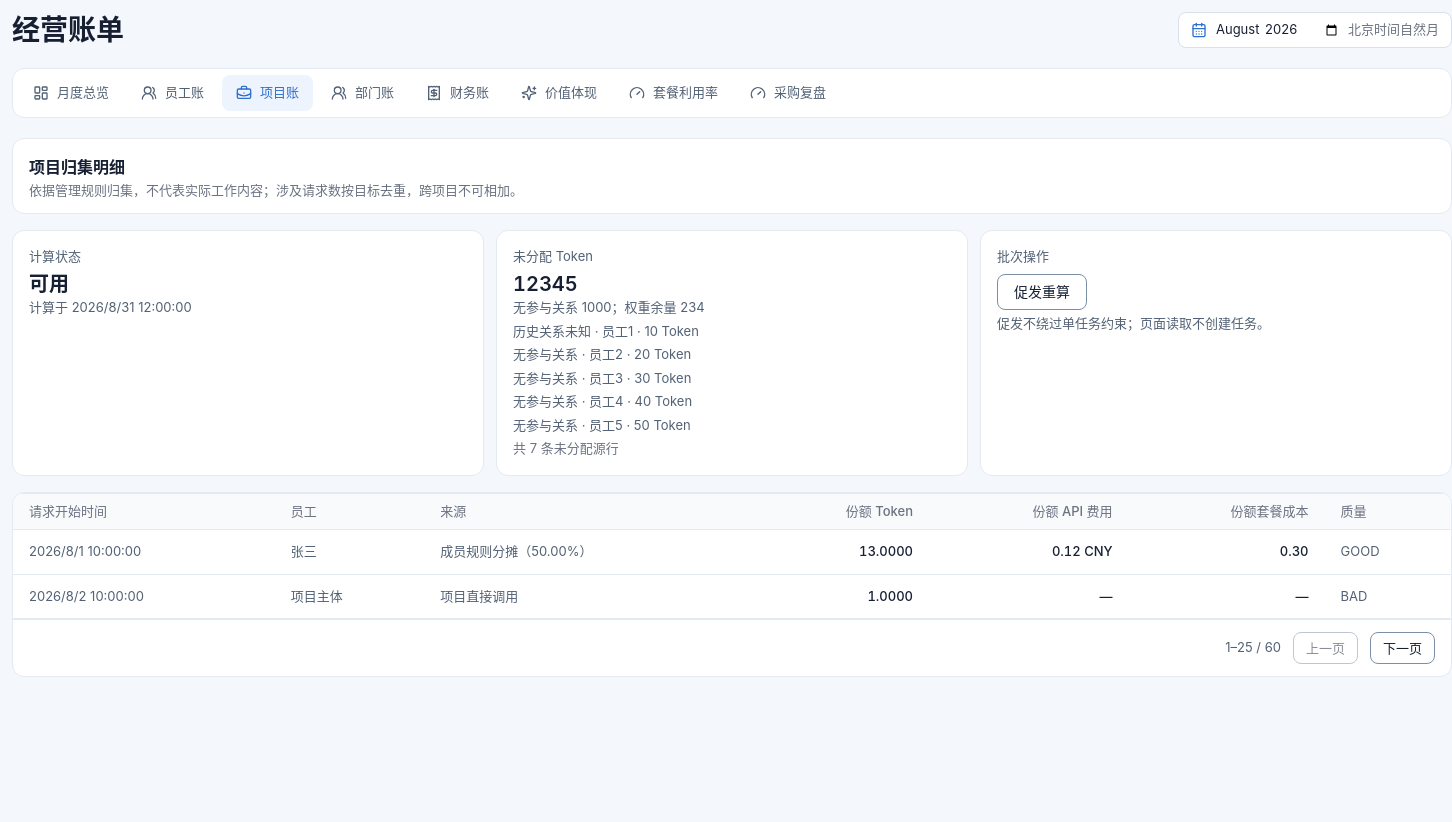
Test case: 项目账归集详情页 › 分页按钮推进 offset 并以新 offset 触发读取
Expected: the text "1–25 / 60" is shown, top-left (1225, 638), bottom-right (1281, 658)
Expected: the button "上一页" is disabled, top-left (1293, 632), bottom-right (1358, 664)
Click the button "下一页" at x=1402, y=648, box top-left (1370, 632), bottom-right (1435, 664)
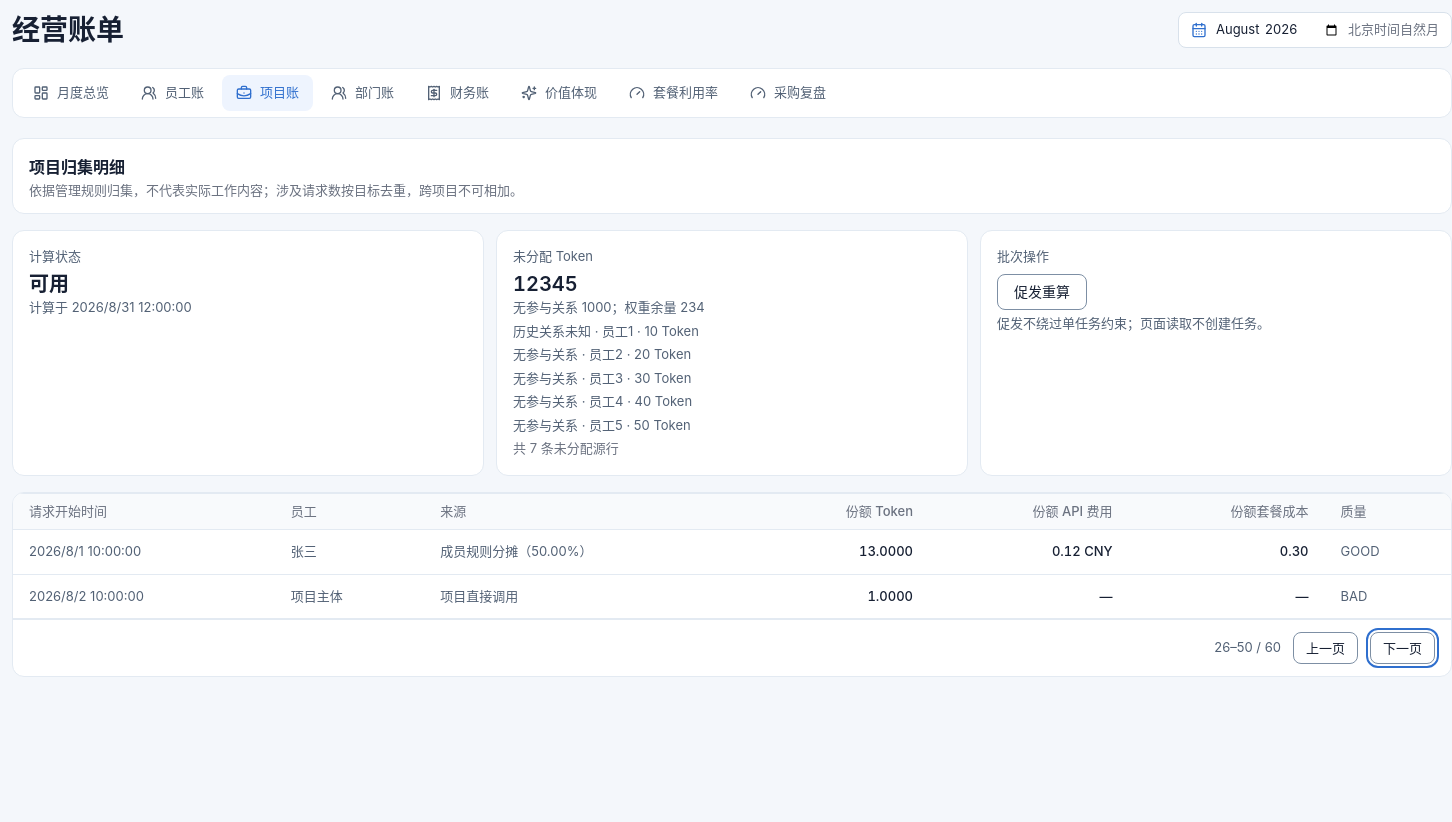
Result: the text "26–50 / 60" is shown at top-left (1214, 638), bottom-right (1281, 658)
Click the button "上一页" at x=1326, y=648, box top-left (1293, 632), bottom-right (1358, 664)
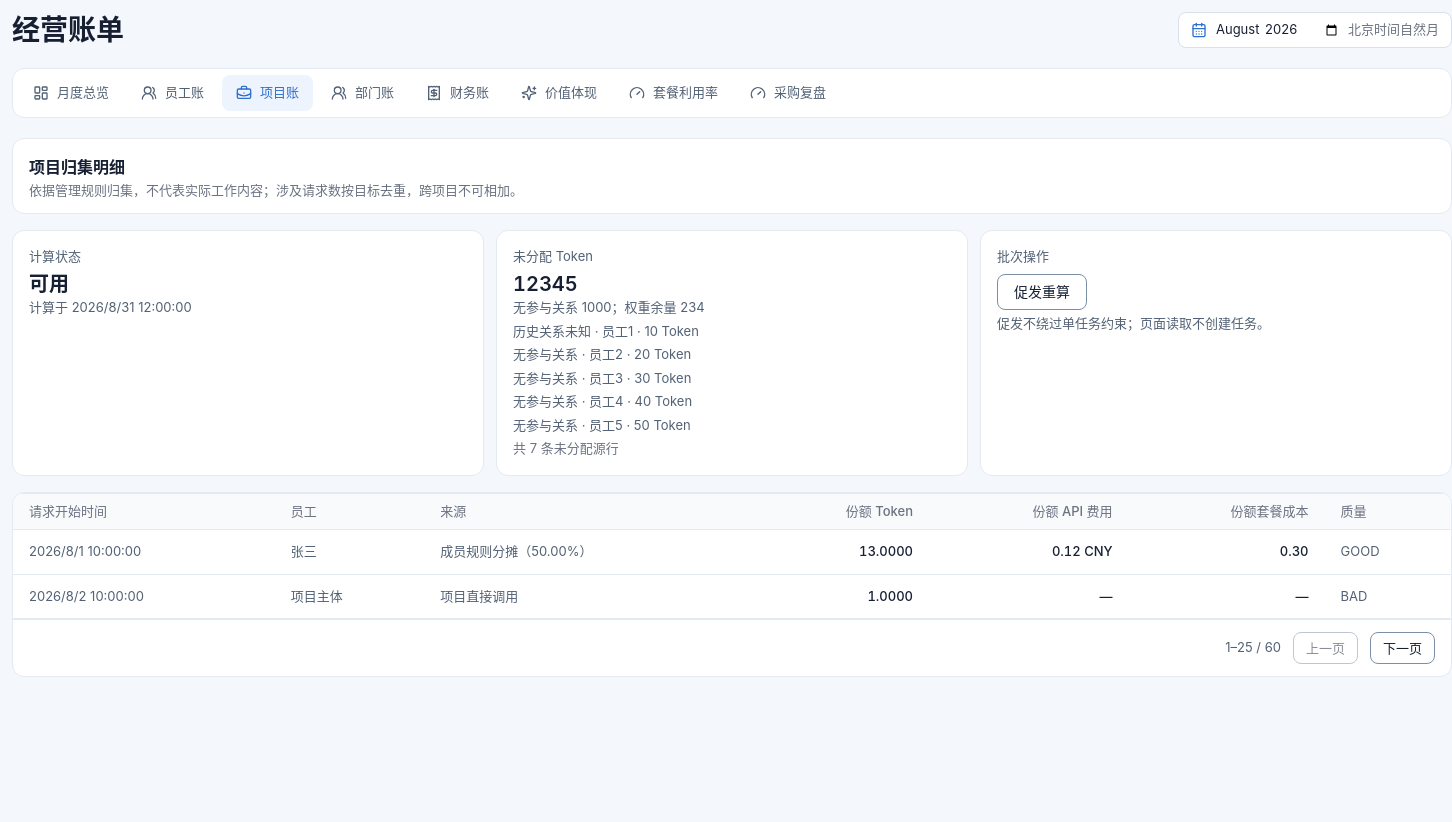
Result: the text "1–25 / 60" is shown at top-left (1225, 638), bottom-right (1281, 658)
